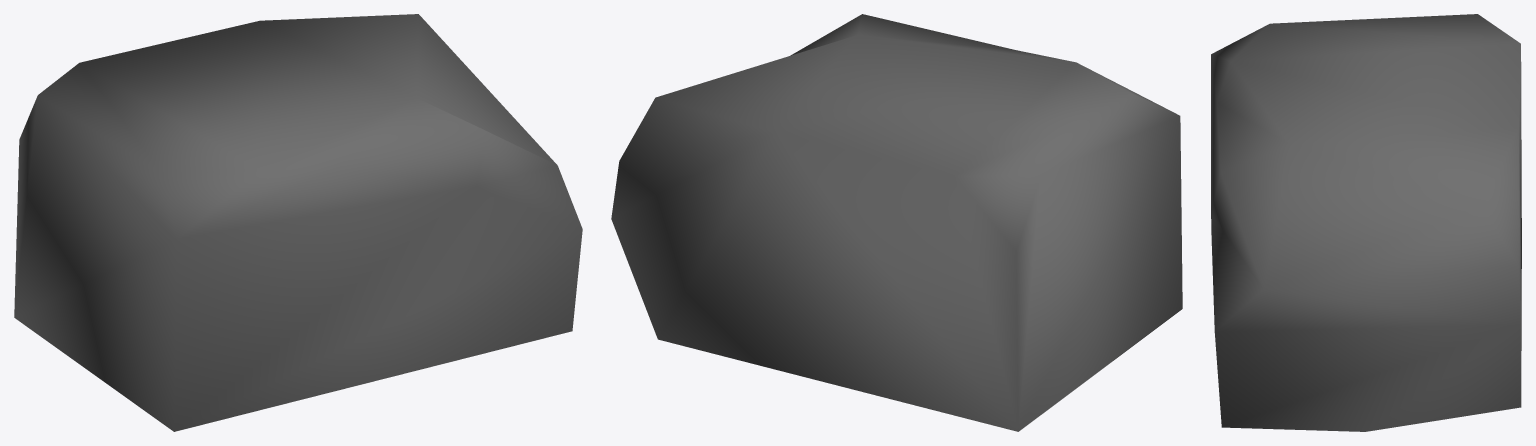
File: scene_malujiakuangdao_strone05.FBX
The picture shows the model from 3 angles, left to right: view 1: azimuth 30°, elevation 25°; view 2: azimuth 150°, elevation 25°; view 3: azimuth 270°, elevation 25°; orthographic projection. The views are drawn at different scales.
Parts seen in each view (by area): view 1: scene_malujiakuangdao_strone05; view 2: scene_malujiakuangdao_strone05; view 3: scene_malujiakuangdao_strone05.
Part boxes in pixels (x1=…): scene_malujiakuangdao_strone05: x1=14, y1=14, x2=582, y2=431; scene_malujiakuangdao_strone05: x1=611, y1=14, x2=1182, y2=431; scene_malujiakuangdao_strone05: x1=1211, y1=14, x2=1521, y2=431.
Bounding box in the file's own units: 63.48 × 35.38 × 43.42.
